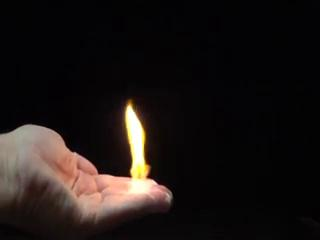Fire: (125, 75, 154, 198)
